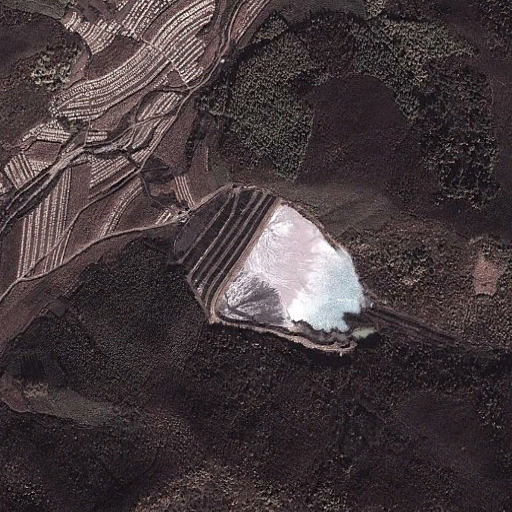tp: (172, 187, 371, 349)
